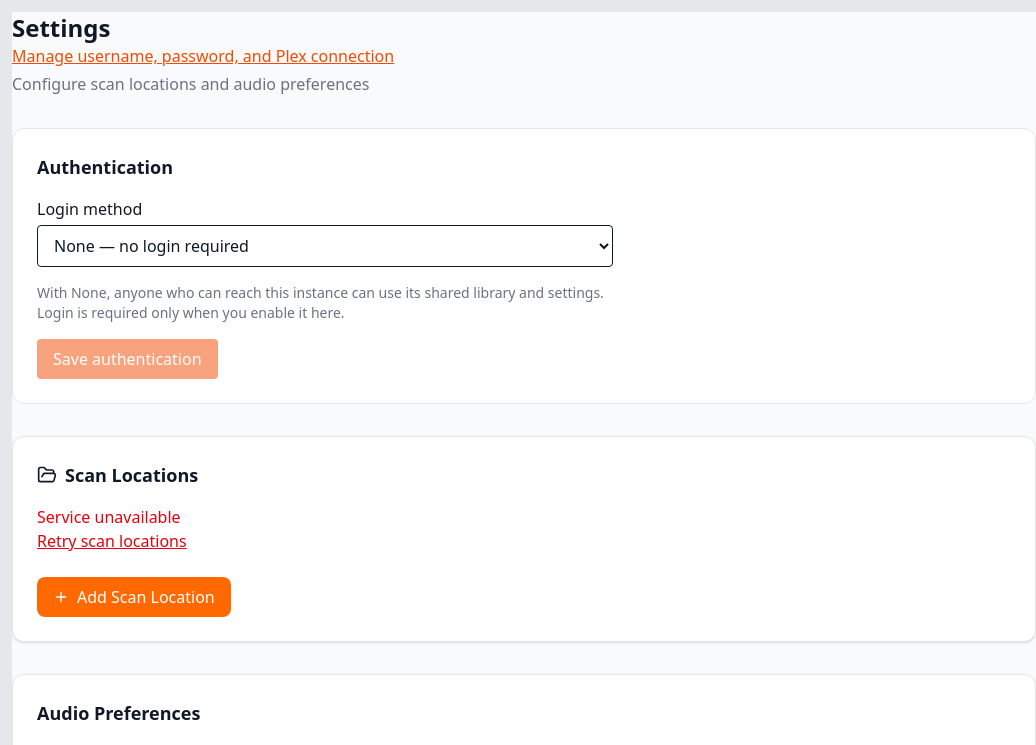
Test: shows failed location loads separately from empty results and retries
The image size is (1036, 745).
Expected: the message shows "Service unavailable", 37,506 -> 181,528
Click the button "Retry scan locations" at (112, 541), box 37,529 -> 187,553
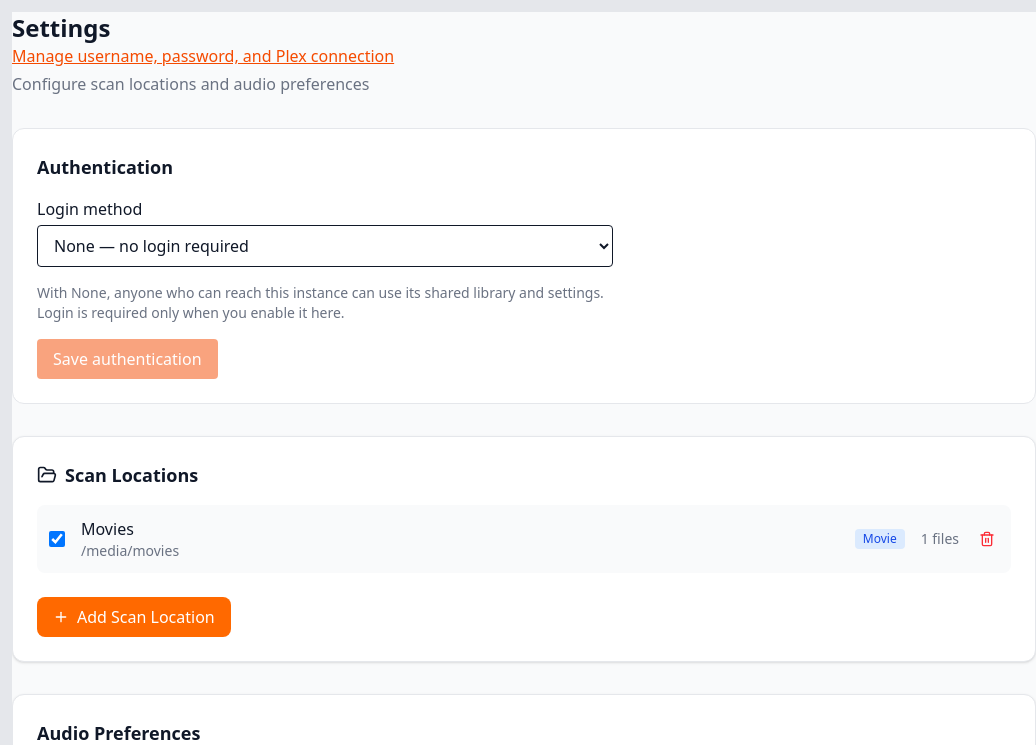
Expected: the button named "Delete Movies" is shown, 975,527 -> 999,551
